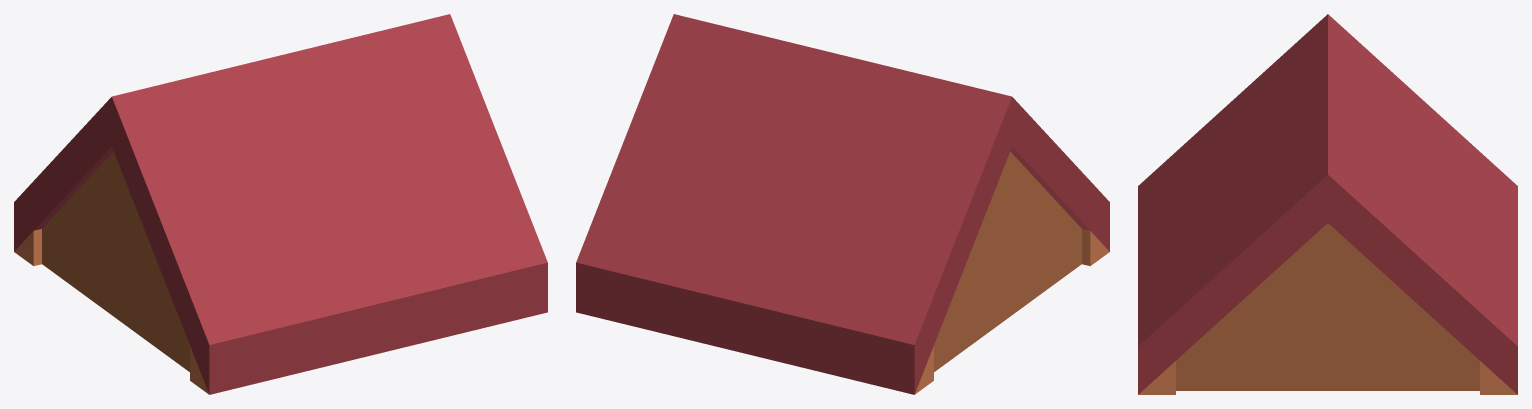
The model's file is roofHighGableTop.obj.
The picture shows the model from 3 angles, left to right: view 1: azimuth 30°, elevation 25°; view 2: azimuth 150°, elevation 25°; view 3: azimuth 270°, elevation 25°; orthographic projection. The views are drawn at different scales.
Visible parts, largest first — view 1: roofHighGableTop; view 2: roofHighGableTop; view 3: roofHighGableTop.
Part boxes in pixels (bbox=[...]): roofHighGableTop: bbox=[14, 14, 547, 394]; roofHighGableTop: bbox=[576, 14, 1109, 394]; roofHighGableTop: bbox=[1138, 14, 1517, 394].
Bounding box in the file's own units: 1 × 0.6407 × 1.
